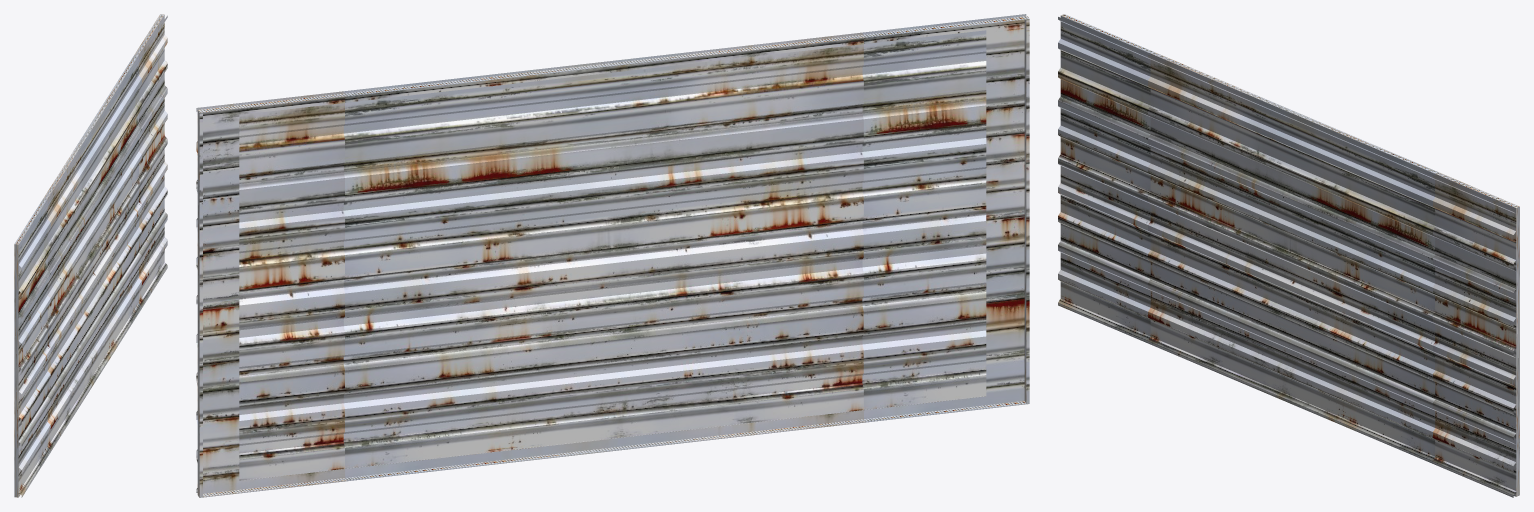
Rendered from newPorton.fbx.
3 renders of one model, left to right at view 1: azimuth 30°, elevation 25°; view 2: azimuth 150°, elevation 25°; view 3: azimuth 270°, elevation 25°, orthographic. The views are drawn at different scales.
Visible parts, largest first — view 1: newPorton; view 2: newPorton; view 3: newPorton.
Part boxes in pixels (x1,y1,x2,y2): newPorton: (14,14,167,497); newPorton: (196,14,1029,497); newPorton: (1058,14,1519,497).
Size of the model in its own units: 171 by 118 by 171.
